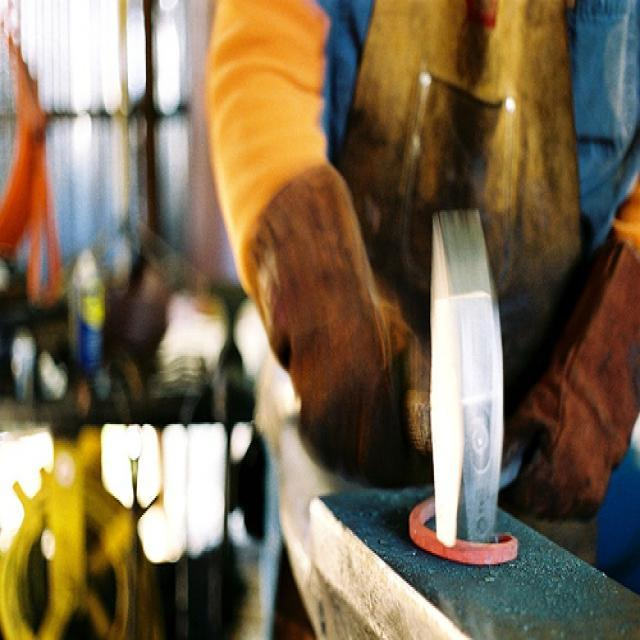hammer: (336, 202, 520, 568)
